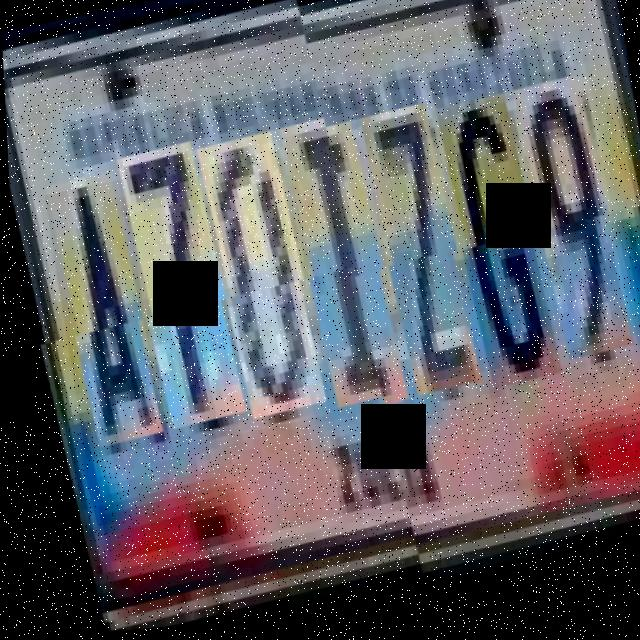0: (193, 143, 324, 440)
7: (114, 151, 244, 447)
9: (509, 86, 629, 381)
A: (42, 178, 160, 463)
G: (430, 103, 557, 408)
I: (276, 126, 403, 431)
Z: (355, 110, 477, 414)
